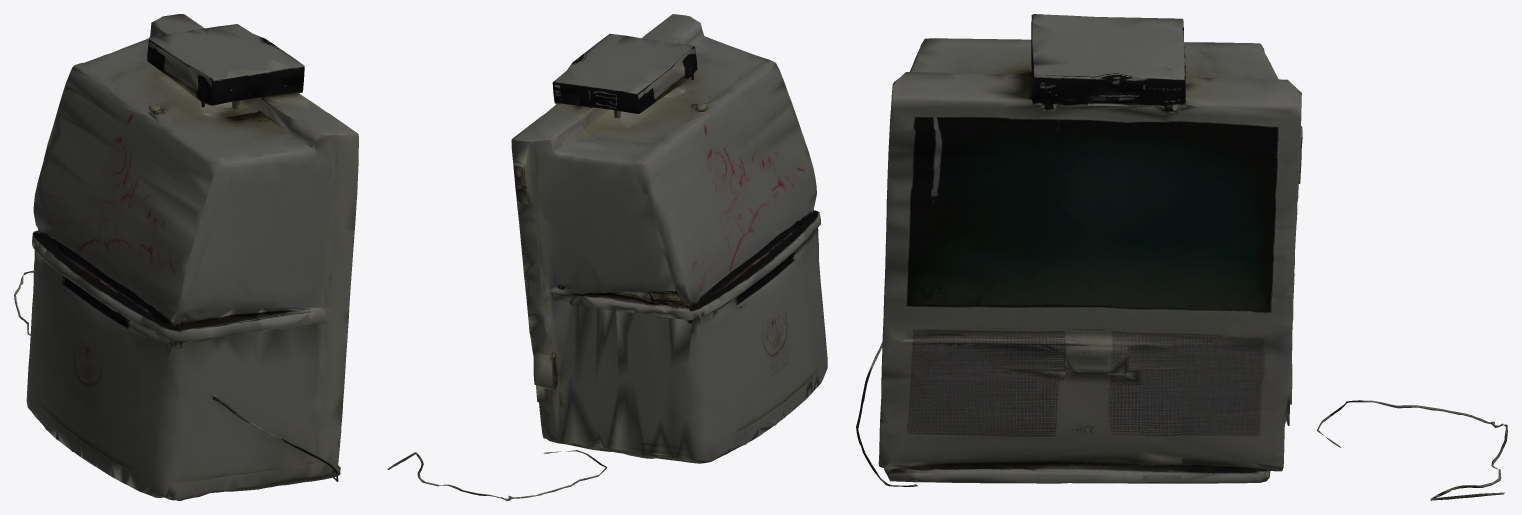
File: crt-software.glb
3 views of the same model, side by side, from view 1: azimuth 30°, elevation 25°; view 2: azimuth 150°, elevation 25°; view 3: azimuth 270°, elevation 25° (orthographic). The views are drawn at different scales.
Parts seen in each view (by area): view 1: tripo_node_026d4c87-e637-46a3-8f36-2dd869dc0341; view 2: tripo_node_026d4c87-e637-46a3-8f36-2dd869dc0341; view 3: tripo_node_026d4c87-e637-46a3-8f36-2dd869dc0341.
Boxes of the visible parts, left/top/right/bottom form: tripo_node_026d4c87-e637-46a3-8f36-2dd869dc0341: left=14, top=14, right=358, bottom=500; tripo_node_026d4c87-e637-46a3-8f36-2dd869dc0341: left=387, top=14, right=827, bottom=500; tripo_node_026d4c87-e637-46a3-8f36-2dd869dc0341: left=856, top=14, right=1507, bottom=500.
Size of the model in its own units: 0.5174 by 0.7391 by 1.
1 material, 1 textured.
